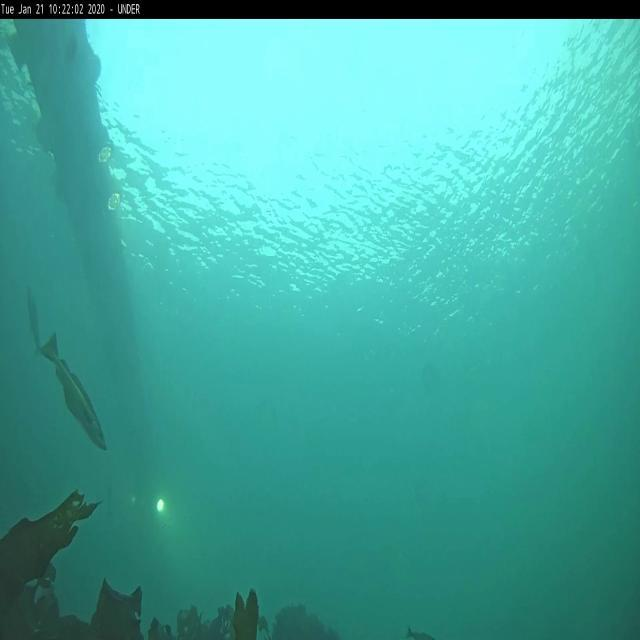fish: (44, 338, 106, 448), (26, 288, 44, 354), (407, 626, 435, 640)
